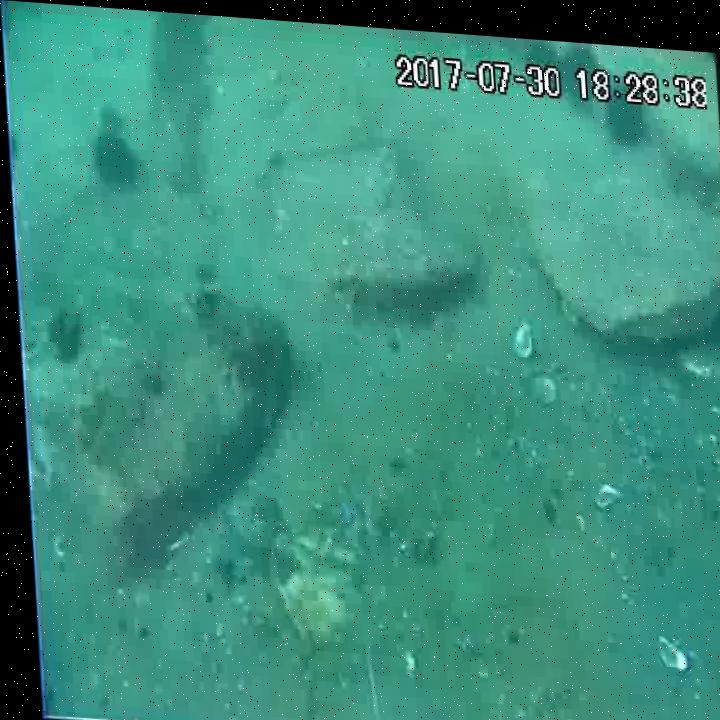echinus: (87, 121, 142, 191), (601, 76, 647, 141)
